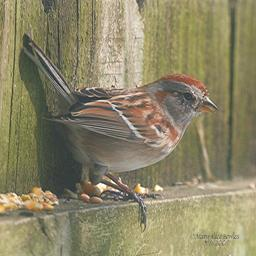Sparrow: (20, 33, 219, 231)
